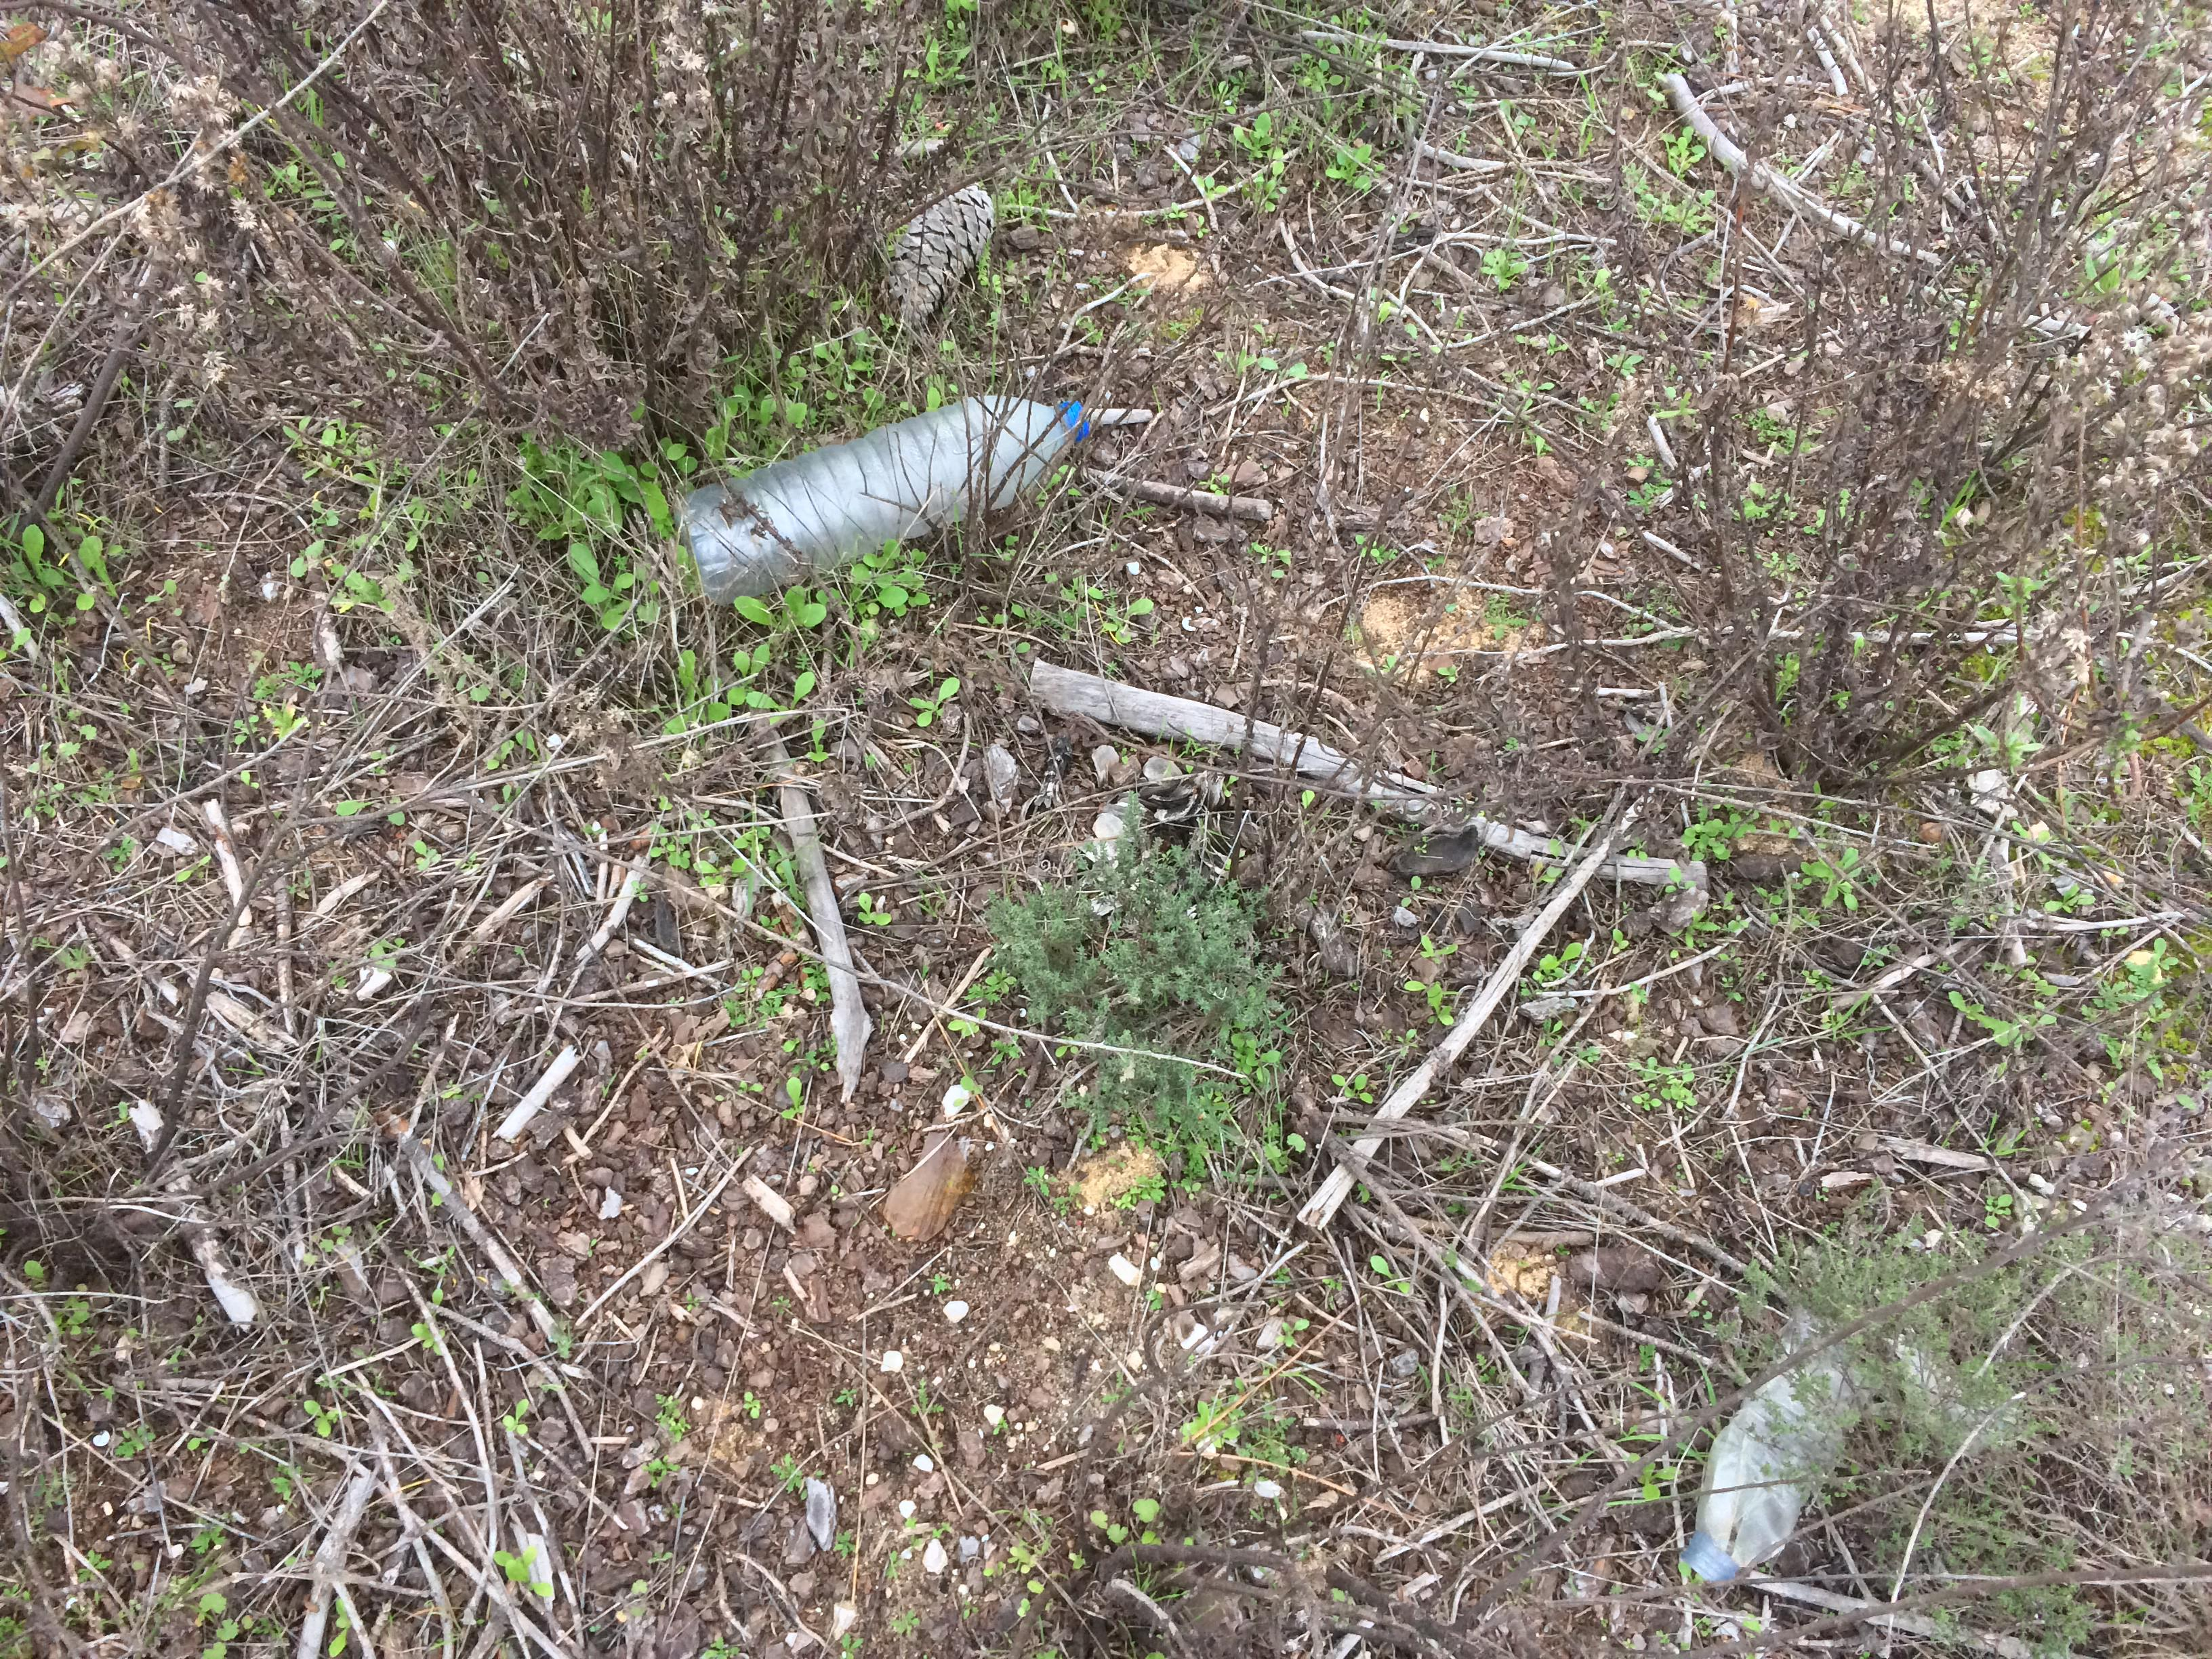Trash: (664, 387, 1097, 610), (1683, 1310, 1878, 1586)
